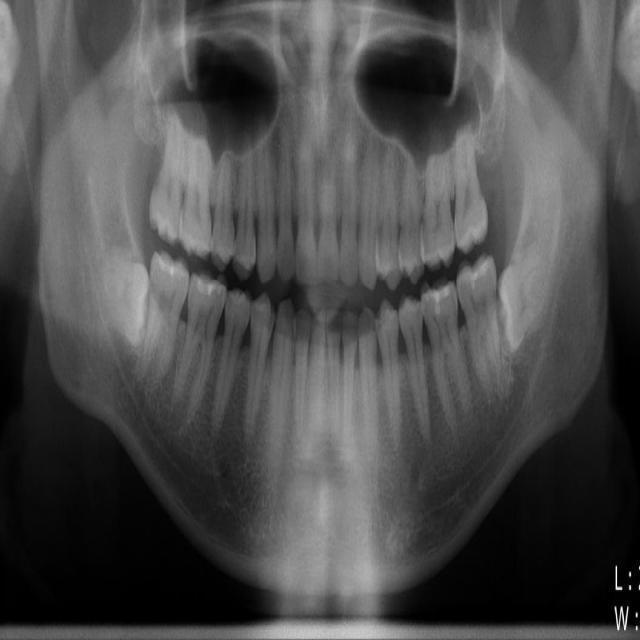Filling: (459, 257, 489, 291), (424, 285, 451, 314), (195, 272, 225, 294), (158, 256, 186, 276)
impacted tooth: (499, 226, 555, 351), (83, 254, 149, 346)
